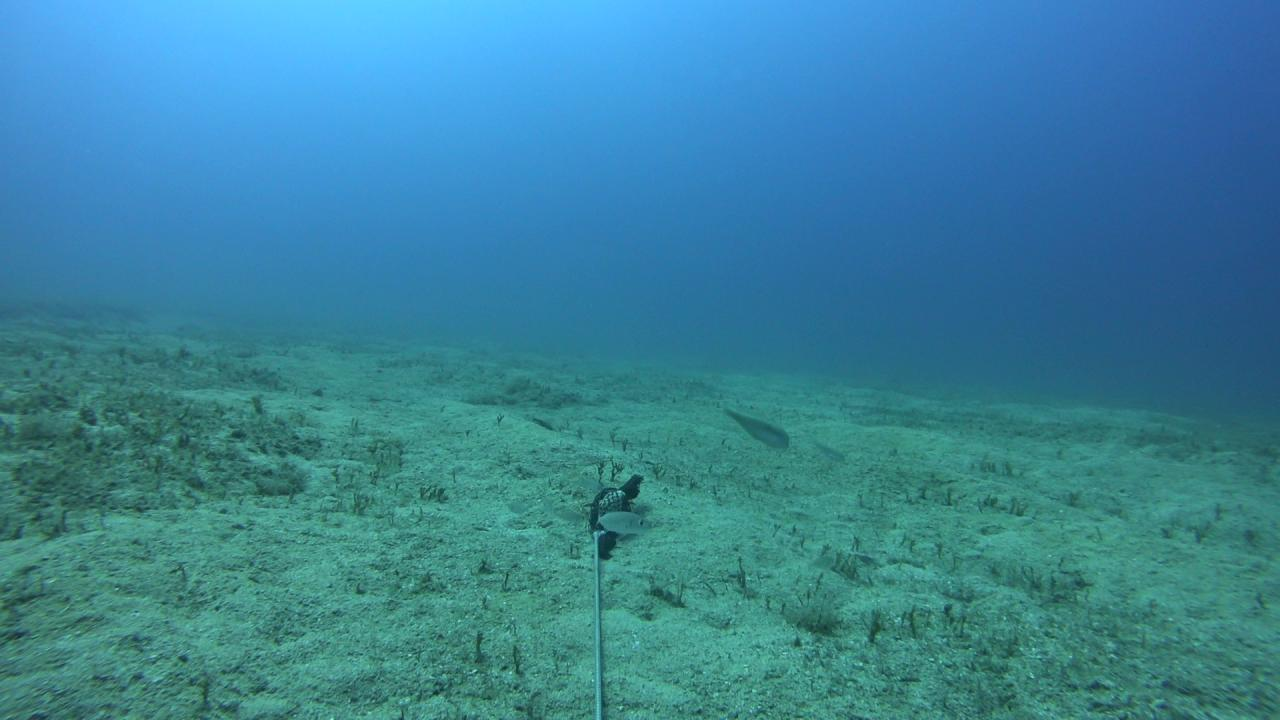pagellus: (594, 510, 654, 534), (578, 471, 605, 493), (555, 512, 588, 526), (506, 502, 531, 518)
raor: (720, 401, 793, 455)
